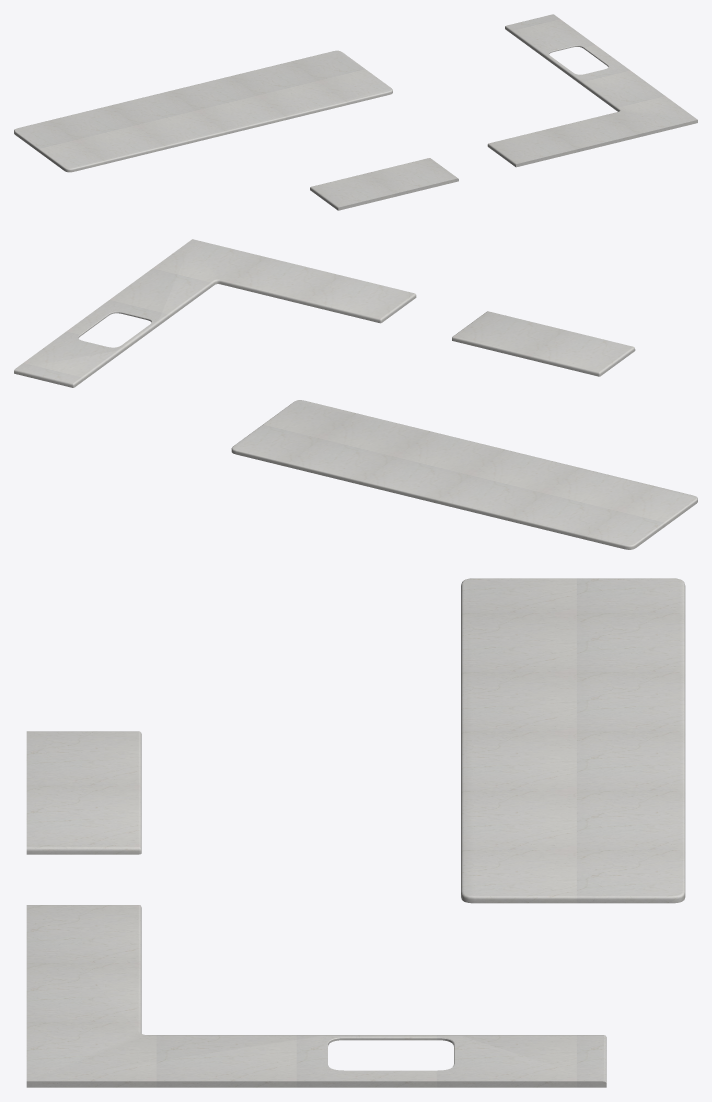
File: 1860_kitchen_Countertops_QuartzCalacattaKarmelo.gltf
3 renders of one model, top to bottom at view 1: azimuth 30°, elevation 25°; view 2: azimuth 150°, elevation 25°; view 3: azimuth 270°, elevation 25°, orthographic. The views are drawn at different scales.
Parts seen in each view (by area): view 1: Countertops_Quartz Calacatta Karmelo; view 2: Countertops_Quartz Calacatta Karmelo; view 3: Countertops_Quartz Calacatta Karmelo.
Part boxes in pixels (x1,y1,x2,y2): Countertops_Quartz Calacatta Karmelo: (14,14,697,210); Countertops_Quartz Calacatta Karmelo: (14,239,697,549); Countertops_Quartz Calacatta Karmelo: (26,578,685,1087).
Size of the model in its own units: 8.6 by 0.09 by 4.7.
1 material, 1 textured.
